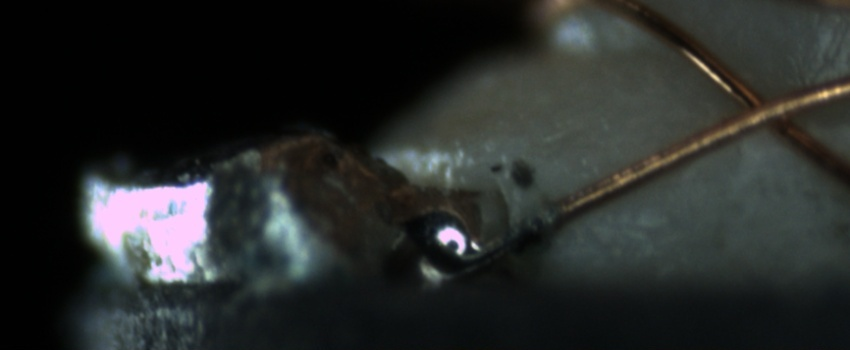CL: (716, 74, 821, 147)
TS: (448, 202, 559, 283)
TTCW: (440, 190, 566, 285)
